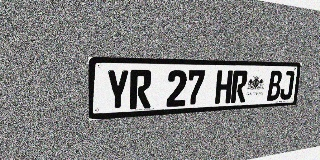2: (166, 70, 187, 107)
7: (186, 70, 205, 106)
B: (267, 71, 283, 101)
H: (215, 70, 233, 104)
J: (279, 71, 295, 100)
R: (129, 70, 152, 109), (230, 70, 248, 103)
Y: (106, 69, 129, 111)
